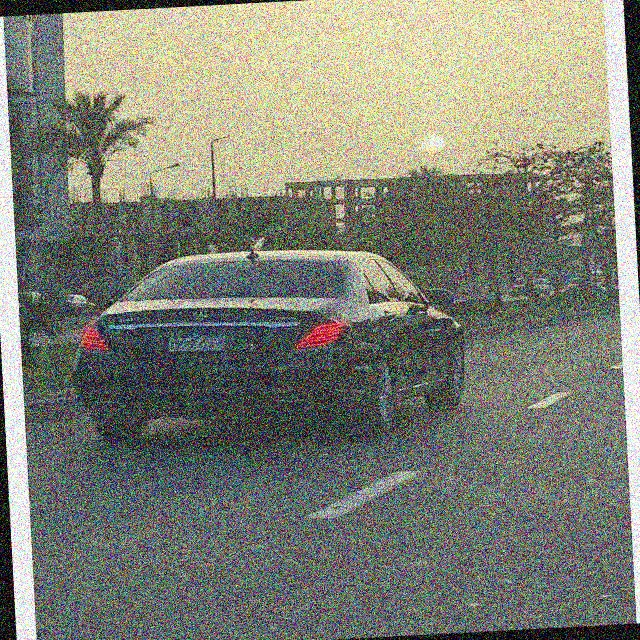License Plate: (164, 324, 229, 356)
